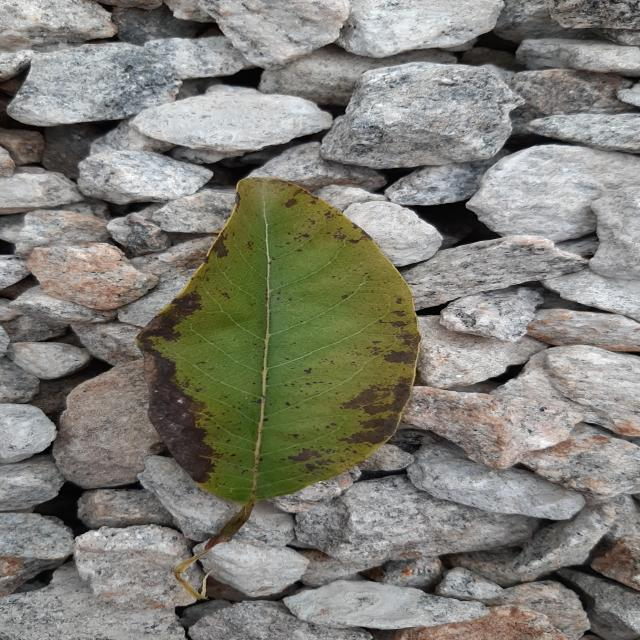leaf spot: (138, 178, 420, 505)
